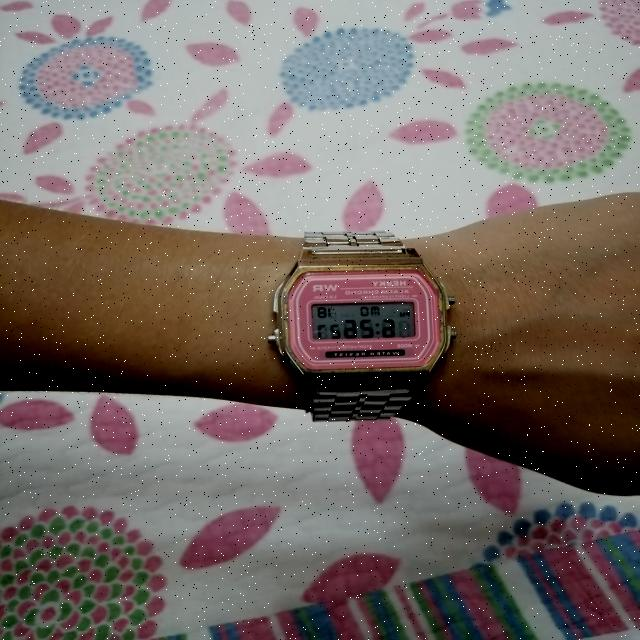Wrist watch: (267, 230, 455, 422)
